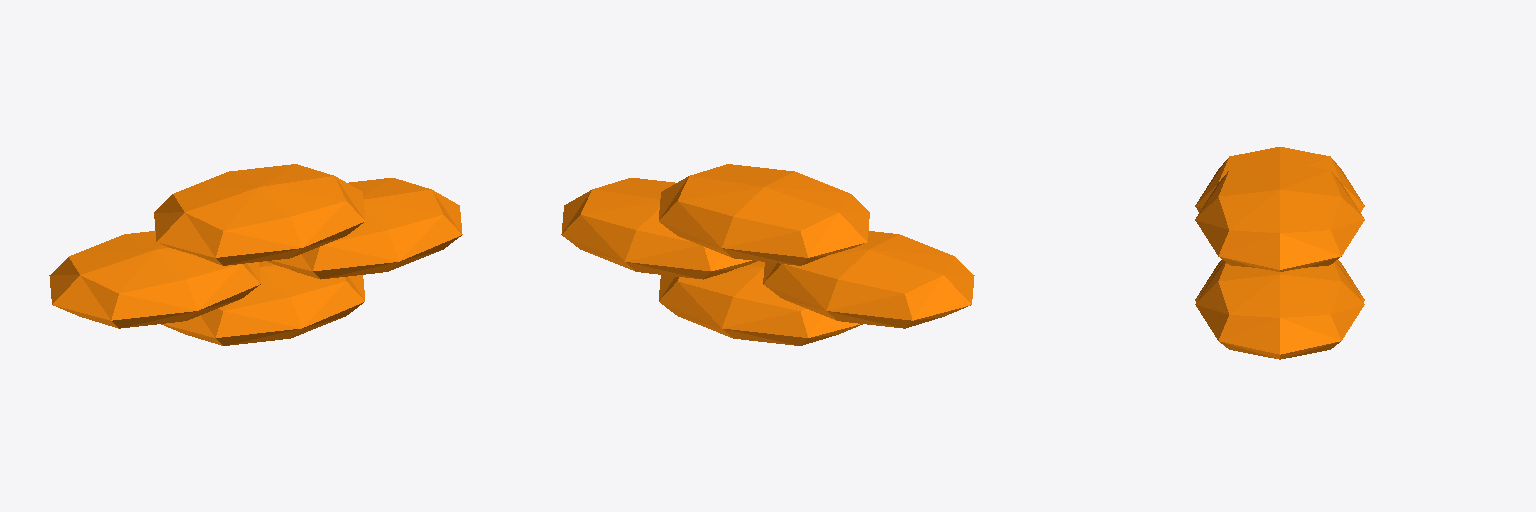
Rendered from SandsSack.obj.
3 views of the same model, side by side, from view 1: azimuth 30°, elevation 25°; view 2: azimuth 150°, elevation 25°; view 3: azimuth 270°, elevation 25° (orthographic).
Visible parts, largest first — view 1: SandsSack_Cube.097; view 2: SandsSack_Cube.097; view 3: SandsSack_Cube.097.
Boxes of the visible parts, <box> form: SandsSack_Cube.097: <box>49,164,462,345</box>; SandsSack_Cube.097: <box>561,164,974,345</box>; SandsSack_Cube.097: <box>1195,147,1364,359</box>.
Bounding box in the file's own units: 2.6 × 0.8302 × 0.9392.